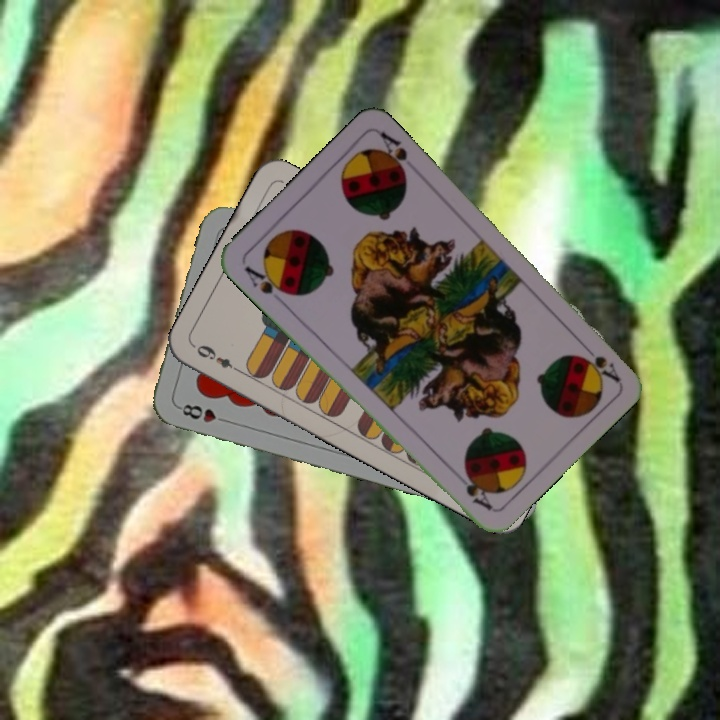E9: (192, 341, 244, 376)
H8: (174, 400, 232, 426)
SA: (576, 337, 622, 384), (241, 262, 293, 298)
